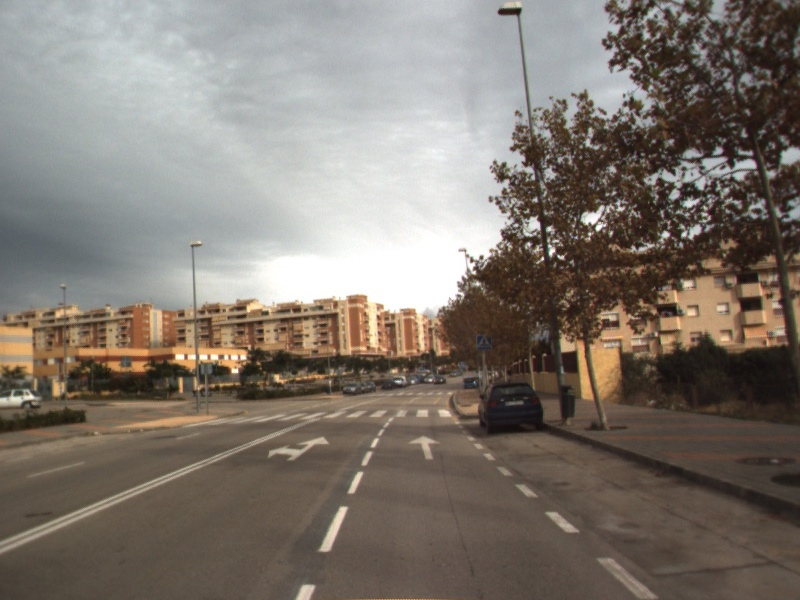STRAIGHT: (406, 433, 442, 461)
STRAIGHT_LEFT: (266, 434, 331, 462)
